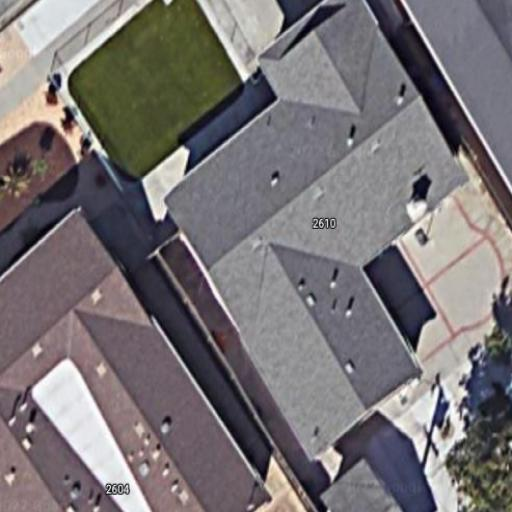Slope-Roof: (165, 3, 469, 458)
